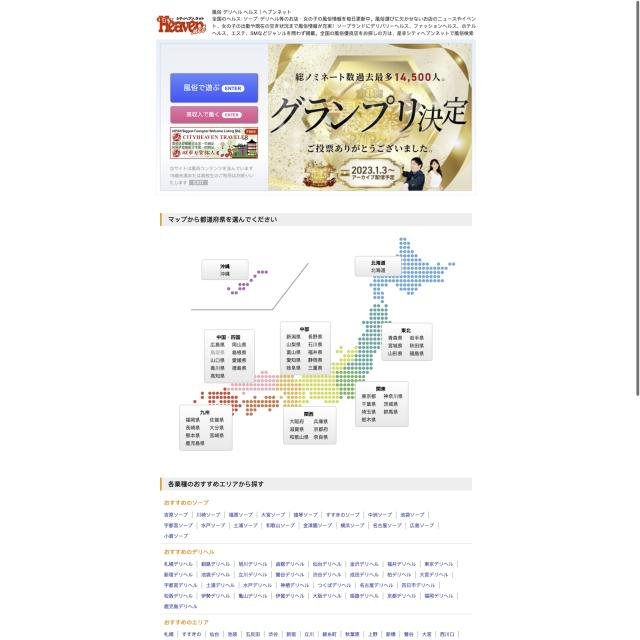ImageView: (158, 40, 474, 196)
QR code: (162, 231, 473, 461)
breadcrumbs: (168, 214, 278, 226), (167, 477, 268, 489)
date picker: (154, 12, 209, 38)
